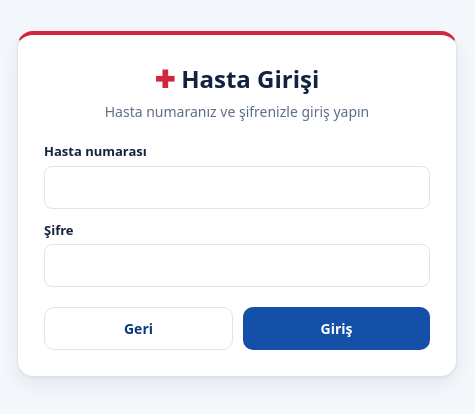
patient login › shows a generic message for wrong credentials
Type "1421986987763" into the field labelled "Hasta numarası" at (237, 187), box [44,166,430,208]
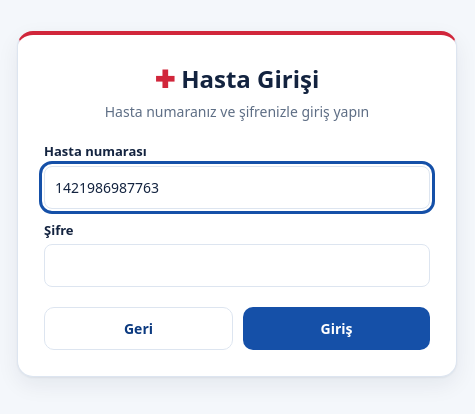
Type "demo1234" into the password field labelled "Şifre" at (237, 266), box [44,244,430,287]
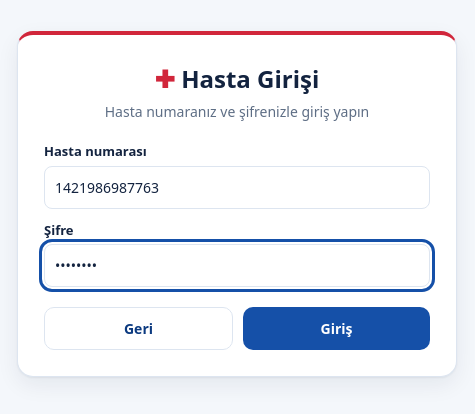
Click the button "Giriş" at (336, 328), box [243,307,430,350]
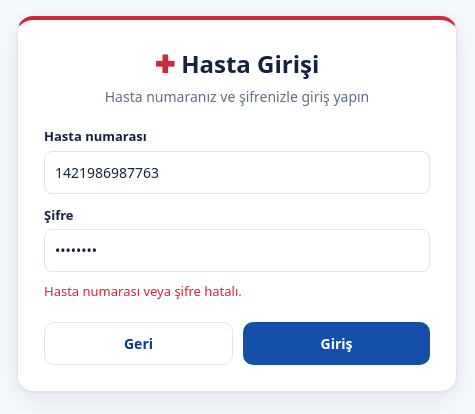
Expected: the heading "Hasta Girişi" is shown, [181,47,319,80]
Expected: the message reads "Hasta numarası veya şifre hatalı.", [44,282,242,300]
